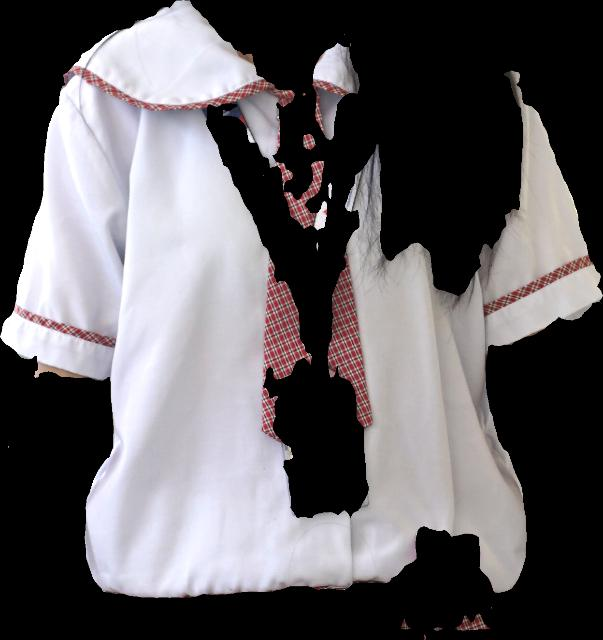pologirl: (0, 0, 602, 597)
